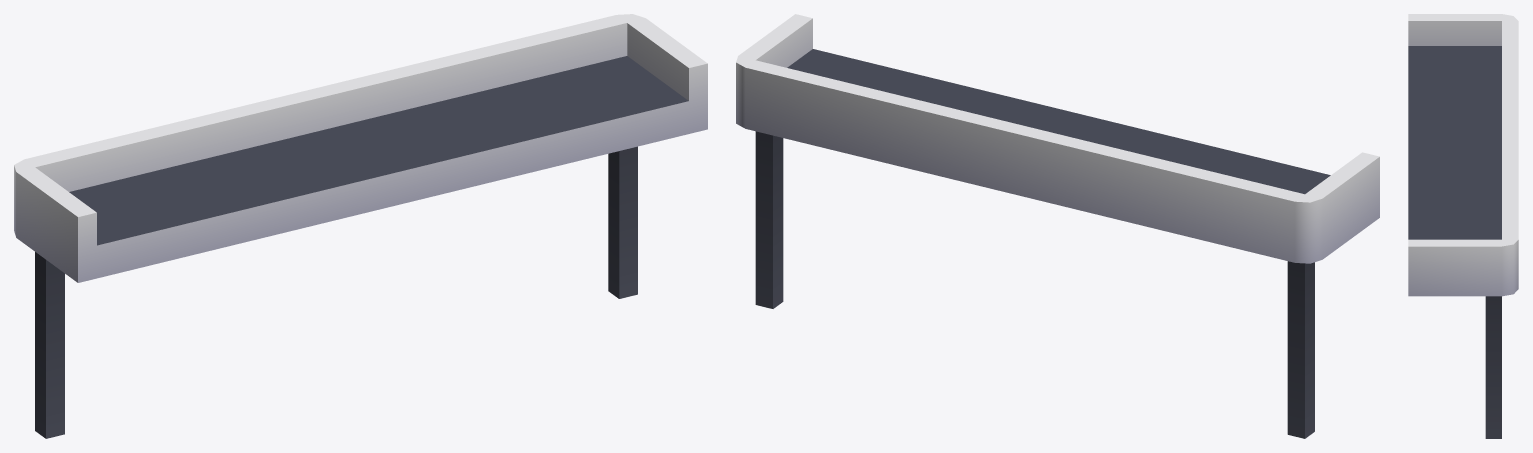
Rendered from detail-overhang-wide.glb.
The picture shows the model from 3 angles, left to right: view 1: azimuth 30°, elevation 25°; view 2: azimuth 150°, elevation 25°; view 3: azimuth 270°, elevation 25°; orthographic projection. The views are drawn at different scales.
Parts seen in each view (by area): view 1: detail-overhang-wide; view 2: detail-overhang-wide; view 3: detail-overhang-wide.
Part boxes in pixels (x1,y1,x2,y2): detail-overhang-wide: [14, 14, 707, 438]; detail-overhang-wide: [736, 14, 1379, 438]; detail-overhang-wide: [1408, 14, 1518, 438].
Bounding box in the file's own units: 1 × 0.4 × 0.2.
1 material, 1 textured.
